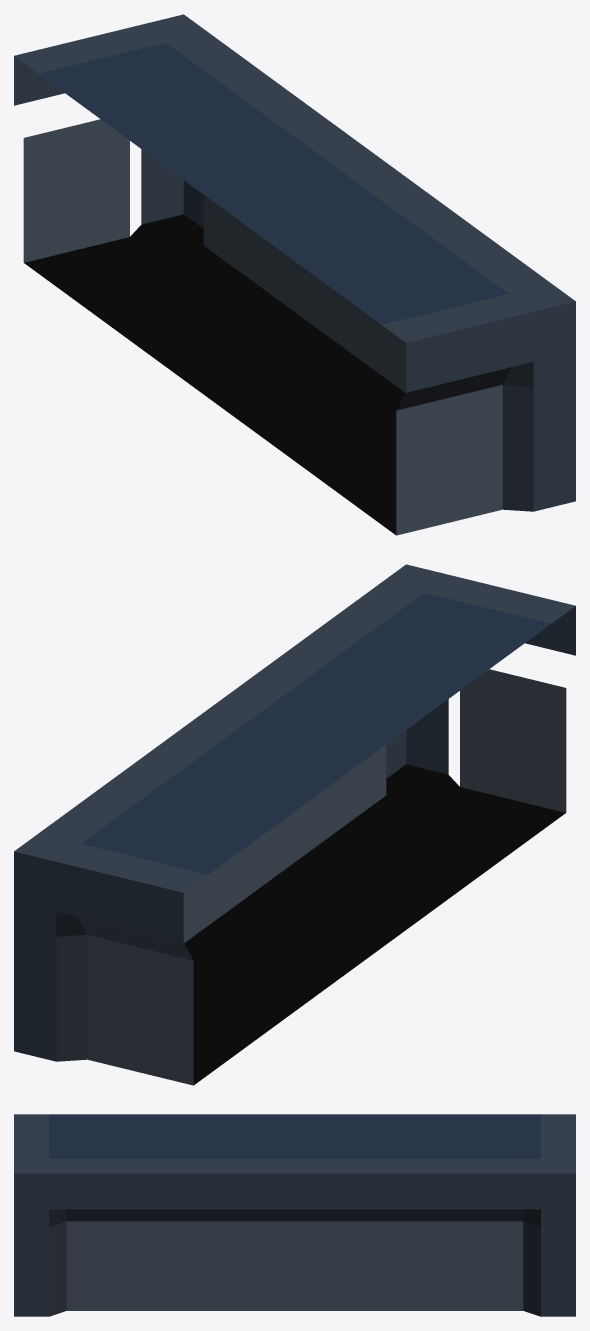
File: LabTableWall.fbx
The picture shows the model from 3 angles, top to bottom: view 1: azimuth 30°, elevation 25°; view 2: azimuth 150°, elevation 25°; view 3: azimuth 270°, elevation 25°; orthographic projection. The views are drawn at different scales.
Visible parts, largest first — view 1: LabTableWall; view 2: LabTableWall; view 3: LabTableWall.
Boxes of the visible parts, bbox=[...] form: LabTableWall: bbox=[14, 14, 575, 535]; LabTableWall: bbox=[14, 564, 575, 1085]; LabTableWall: bbox=[14, 1114, 575, 1316].
Bounding box in the file's own units: 100 × 113 × 400.
